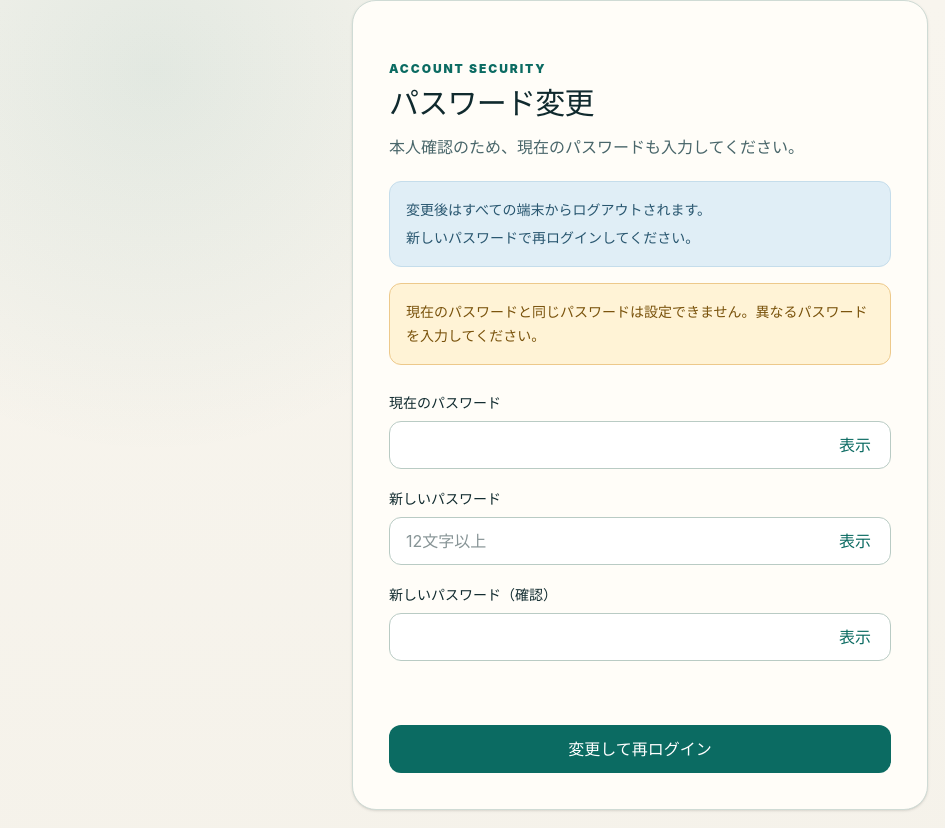
Test case: PasswordChangeView › 新しいパスワードの確認不一致をAPI送信前に表示する
Type "current-password" into the password field labelled "現在のパスワード" at (640, 445), box [389,421,891,469]
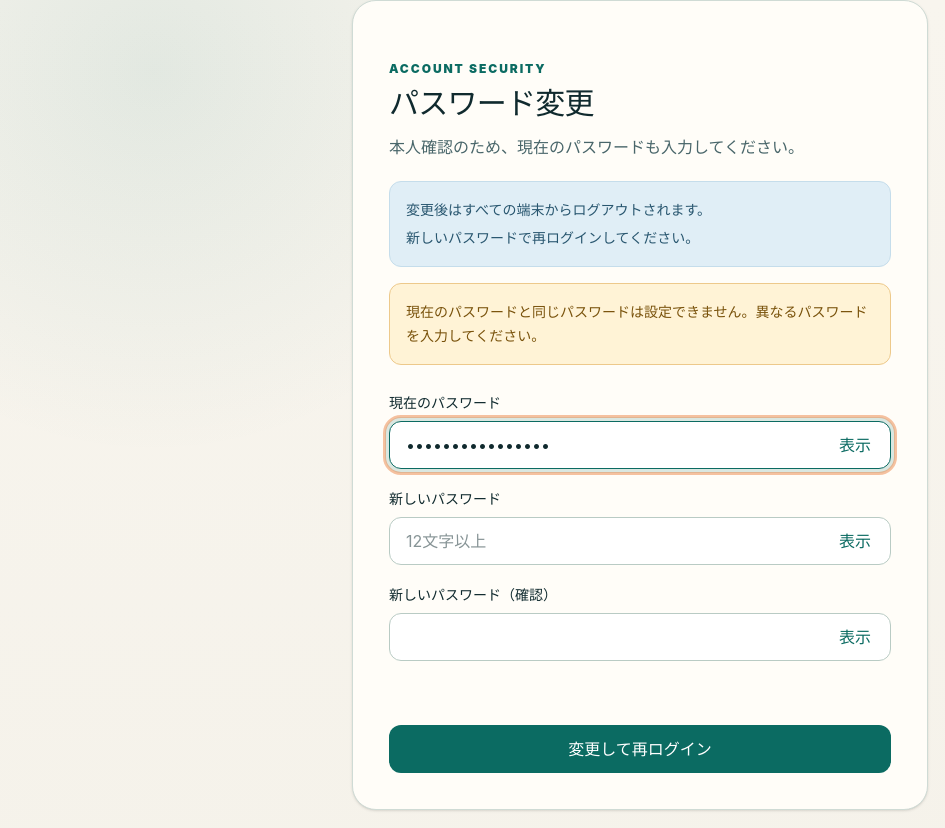
Type "new-password-123" into the password field labelled "新しいパスワード" at (640, 541), box [389,517,891,565]
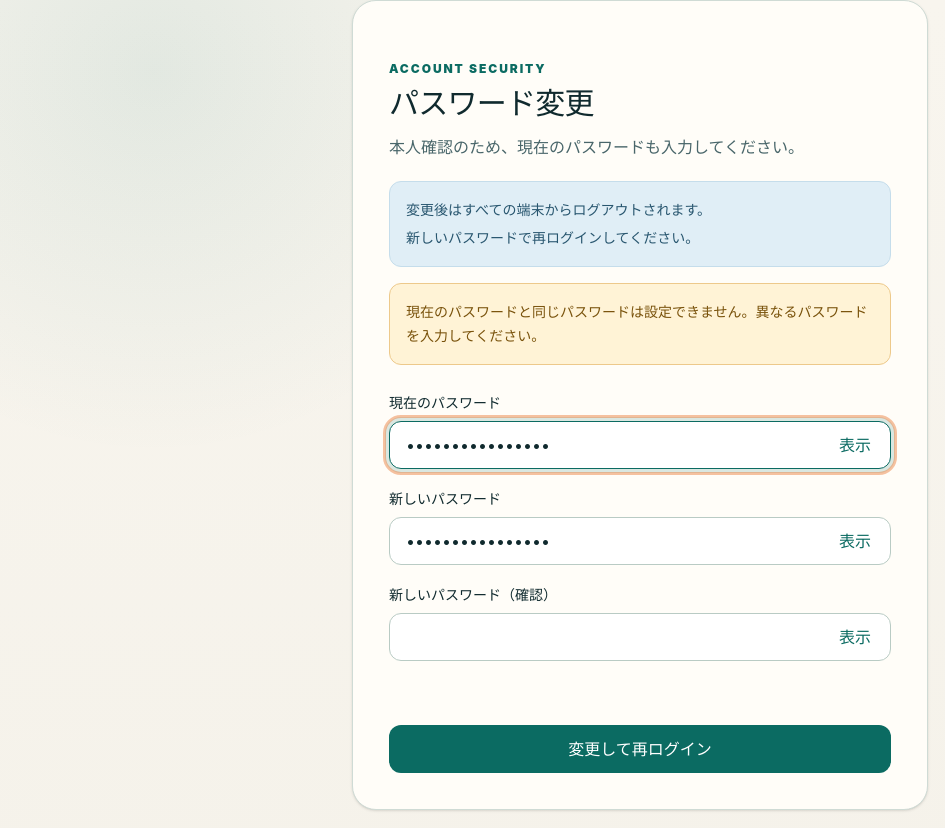
Type "different-pass" into the password field labelled "新しいパスワード（確認）" at (640, 637), box [389,613,891,661]
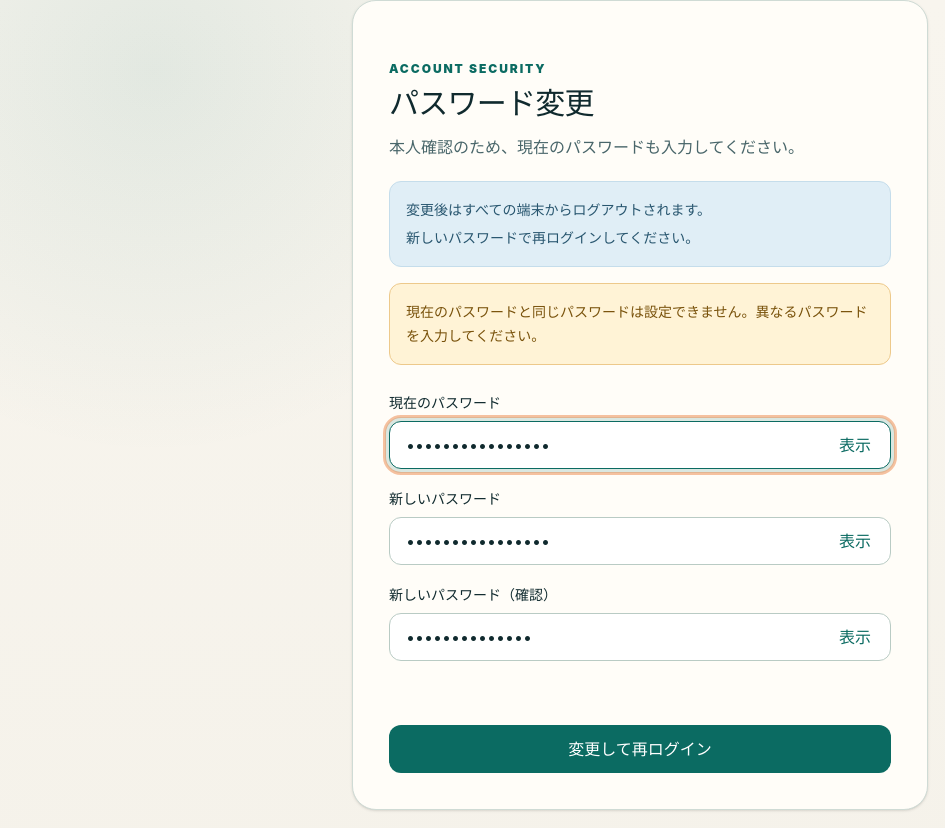
Click the button "変更して再ログイン" at (640, 749), box [389,725,891,773]
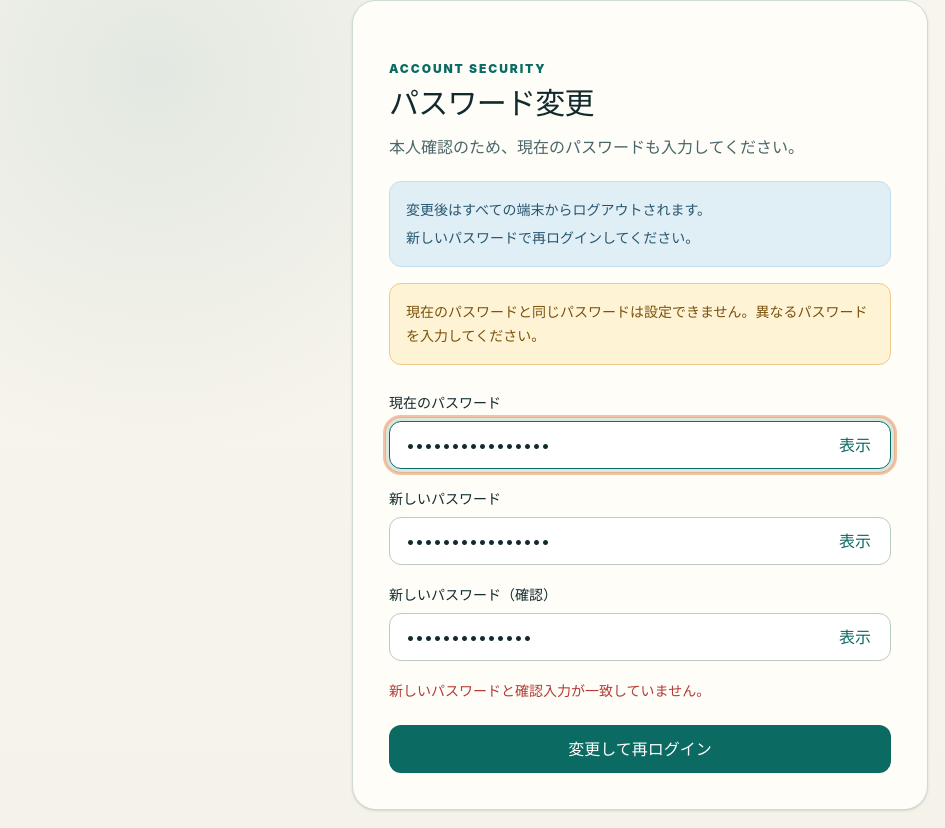
Expected: the text "新しいパスワードと確認入力が一致していません。" is shown, [389,682,710,699]
